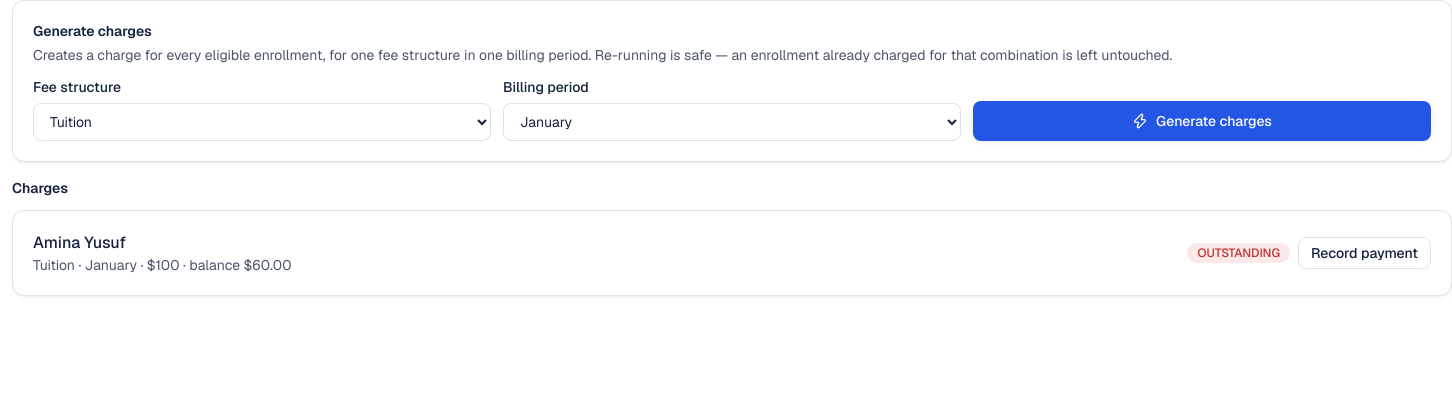
ChargesTab — record a charge payment (mutation) › prefills the amount with the remaining balance, with min 0.01 and max the remaining balance
Step 1. Click the button "Record payment" → (1364, 253), box [1298,237,1431,269]
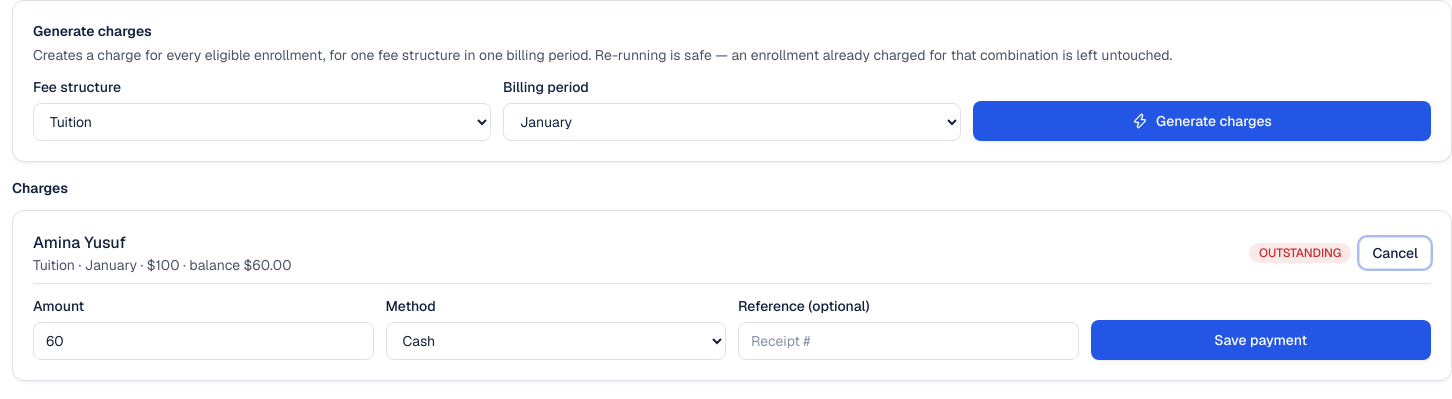
expect the number field holds "60": met, box [33,322,374,360]
